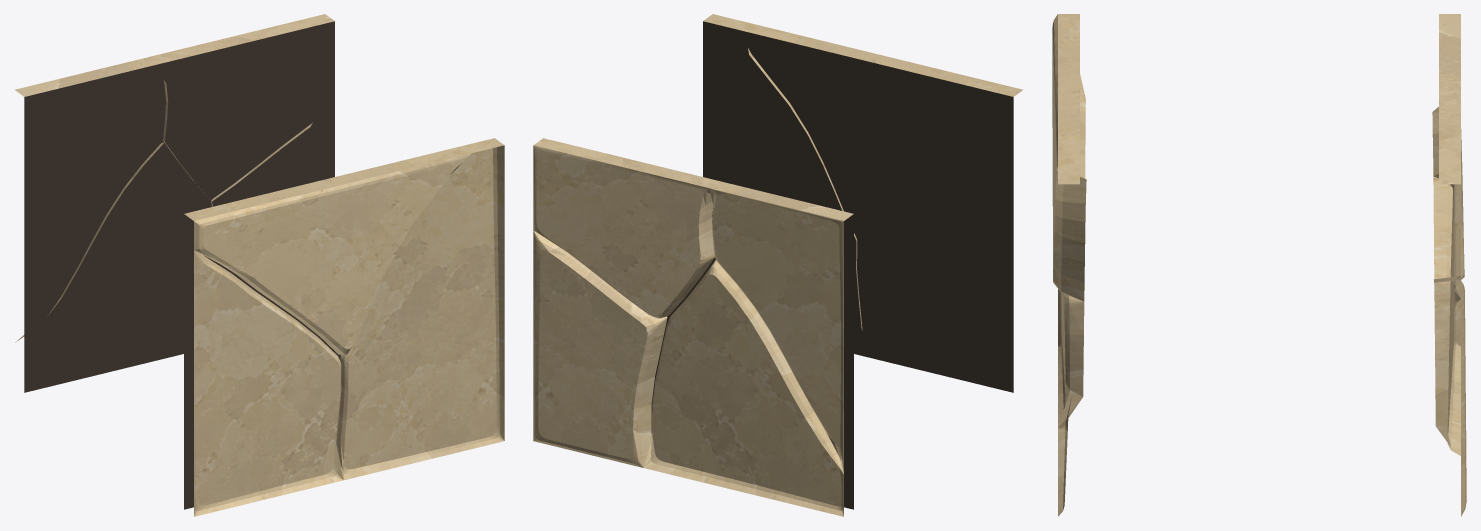
File: ground_strip_01.glb
3 views of the same model, side by side, from view 1: azimuth 30°, elevation 25°; view 2: azimuth 150°, elevation 25°; view 3: azimuth 270°, elevation 25° (orthographic). The views are drawn at different scales.
Visible parts, largest first — view 1: GroundStrip01_Body; view 2: GroundStrip01_Body; view 3: GroundStrip01_Body.
Boxes of the visible parts, x1,y1,x2,y2 form: GroundStrip01_Body: [14, 14, 504, 516]; GroundStrip01_Body: [533, 14, 1023, 516]; GroundStrip01_Body: [1052, 14, 1466, 516].
Bounding box in the file's own units: 1 × 0.91 × 1.03.
Materials: 9 (8 with a texture image).
